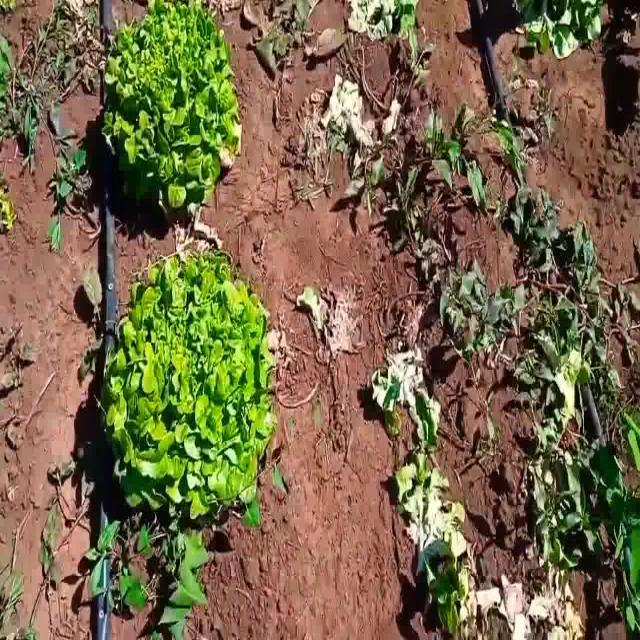Lettuce: (93, 252, 278, 526), (87, 0, 245, 224)
